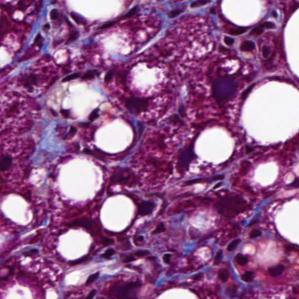inflammation: (210, 235, 259, 284), (218, 29, 261, 59)
